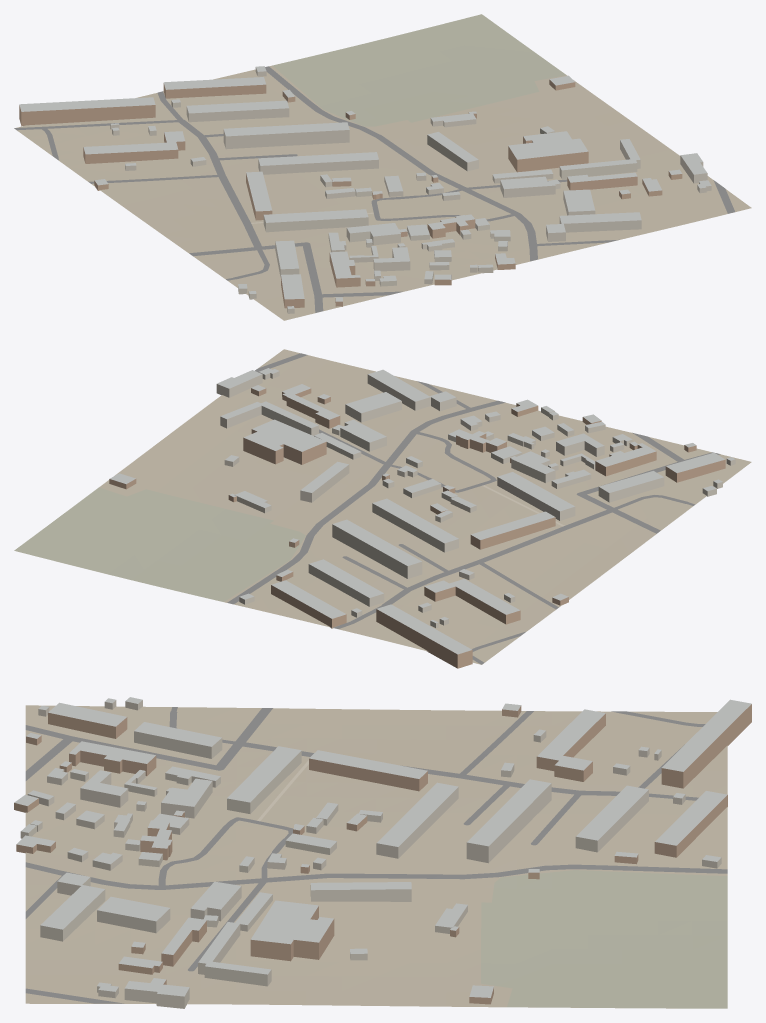
Rendered from bolak_-26_-5.glb.
3 views of the same model, one above another, from view 1: azimuth 30°, elevation 25°; view 2: azimuth 150°, elevation 25°; view 3: azimuth 270°, elevation 25° (orthographic). The views are drawn at different scales.
Visible parts, largest first — view 1: Yer_Tuproq-col, Tom_Shifer, Yer_Qabr, Devor_Suvoq-col, Devor_Gisht-col, Yol_Mahalla-col; view 2: Yer_Tuproq-col, Tom_Shifer, Yer_Qabr, Devor_Suvoq-col, Devor_Gisht-col, Yol_Mahalla-col; view 3: Yer_Tuproq-col, Tom_Shifer, Yer_Qabr, Devor_Suvoq-col, Devor_Gisht-col, Yol_Mahalla-col.
Boxes of the visible parts, x1=… form: Yer_Tuproq-col: x1=16, y1=65, x2=751, y2=320; Tom_Shifer: x1=19, y1=66, x2=711, y2=308; Yer_Qabr: x1=272, y1=14, x2=566, y2=126; Devor_Suvoq-col: x1=110, y1=67, x2=711, y2=313; Devor_Gisht-col: x1=19, y1=79, x2=682, y2=308; Yol_Mahalla-col: x1=14, y1=66, x2=734, y2=312; Yer_Tuproq-col: x1=99, y1=349, x2=751, y2=664; Tom_Shifer: x1=109, y1=368, x2=734, y2=654; Yer_Qabr: x1=14, y1=487, x2=305, y2=601; Devor_Suvoq-col: x1=216, y1=371, x2=735, y2=628; Devor_Gisht-col: x1=109, y1=388, x2=725, y2=668; Yol_Mahalla-col: x1=227, y1=353, x2=720, y2=664; Yer_Tuproq-col: x1=25, y1=705, x2=727, y2=1008; Tom_Shifer: x1=14, y1=697, x2=751, y2=997; Yer_Qabr: x1=481, y1=870, x2=727, y2=1008; Devor_Suvoq-col: x1=20, y1=700, x2=721, y2=1008; Devor_Gisht-col: x1=14, y1=704, x2=751, y2=1004; Yol_Mahalla-col: x1=25, y1=707, x2=727, y2=1003.
Size of what is drawn, in the model's own units: 410 by 13.47 by 421.
